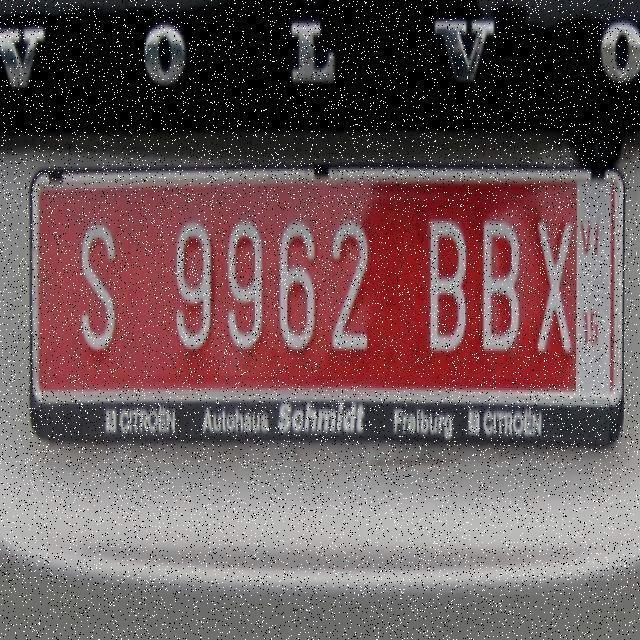License Plate: (19, 127, 631, 486)
